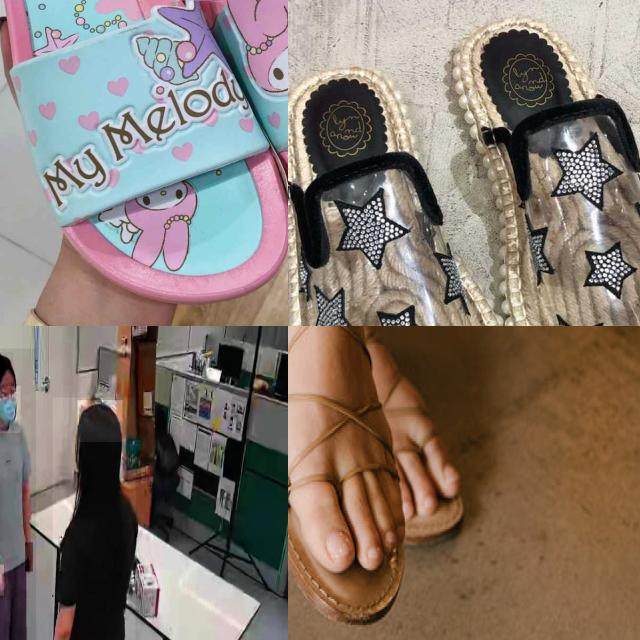Sandals: (288, 0, 640, 326), (0, 0, 288, 313), (288, 326, 407, 623)
face_mask: (0, 386, 20, 433)
hand_noglove: (25, 542, 33, 572), (0, 564, 4, 596)
head_nohelmet: (77, 400, 123, 443), (0, 352, 14, 376)
person: (52, 397, 135, 640), (0, 348, 36, 640)
